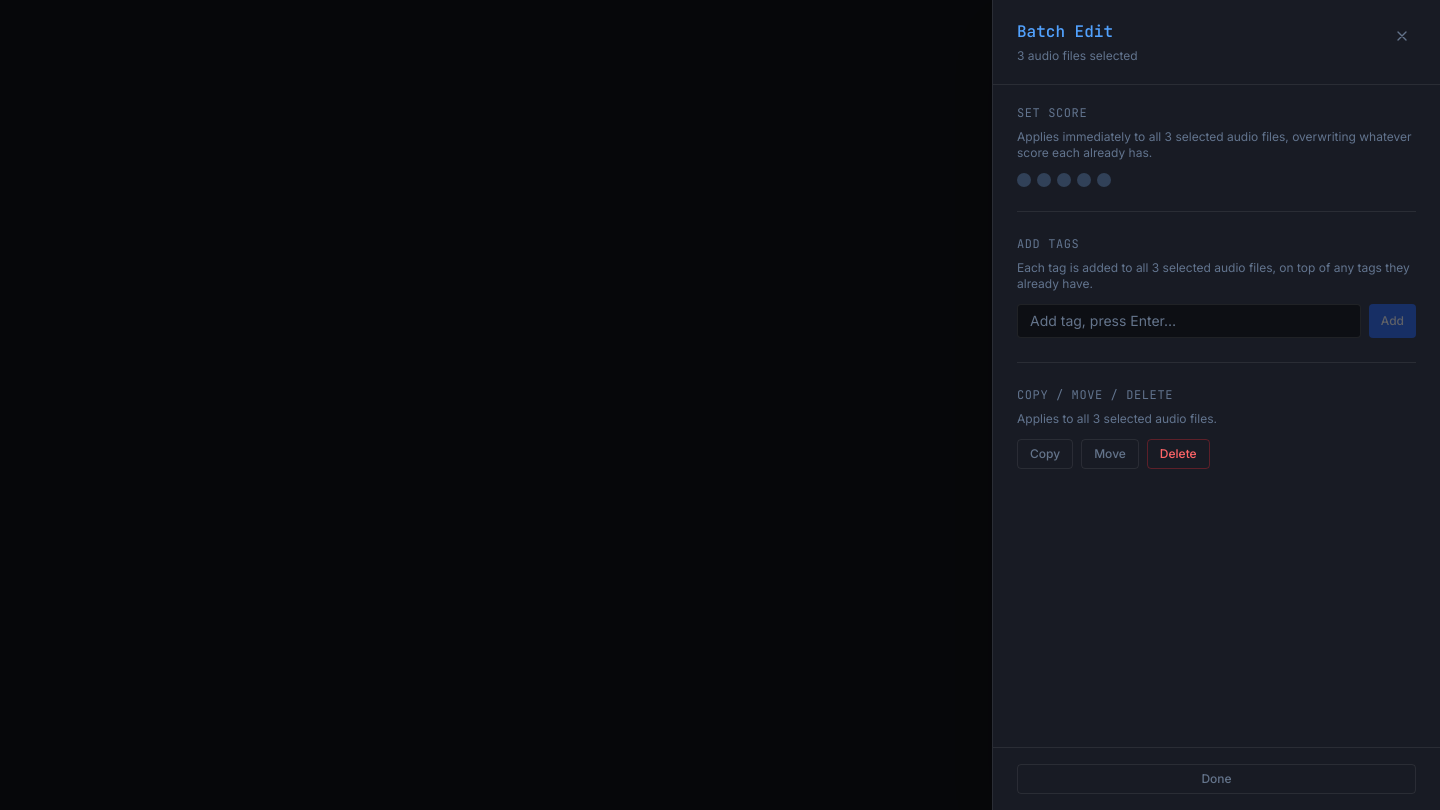
Test: BatchEditPanel - handleAddTag › the Add button also commits the current input value and is disabled when the input is empty
Expected: the button "Add" is disabled, [1369,304,1416,338]
Type "ambient" into the dropdown at (1189,321), box [1017,304,1361,338]
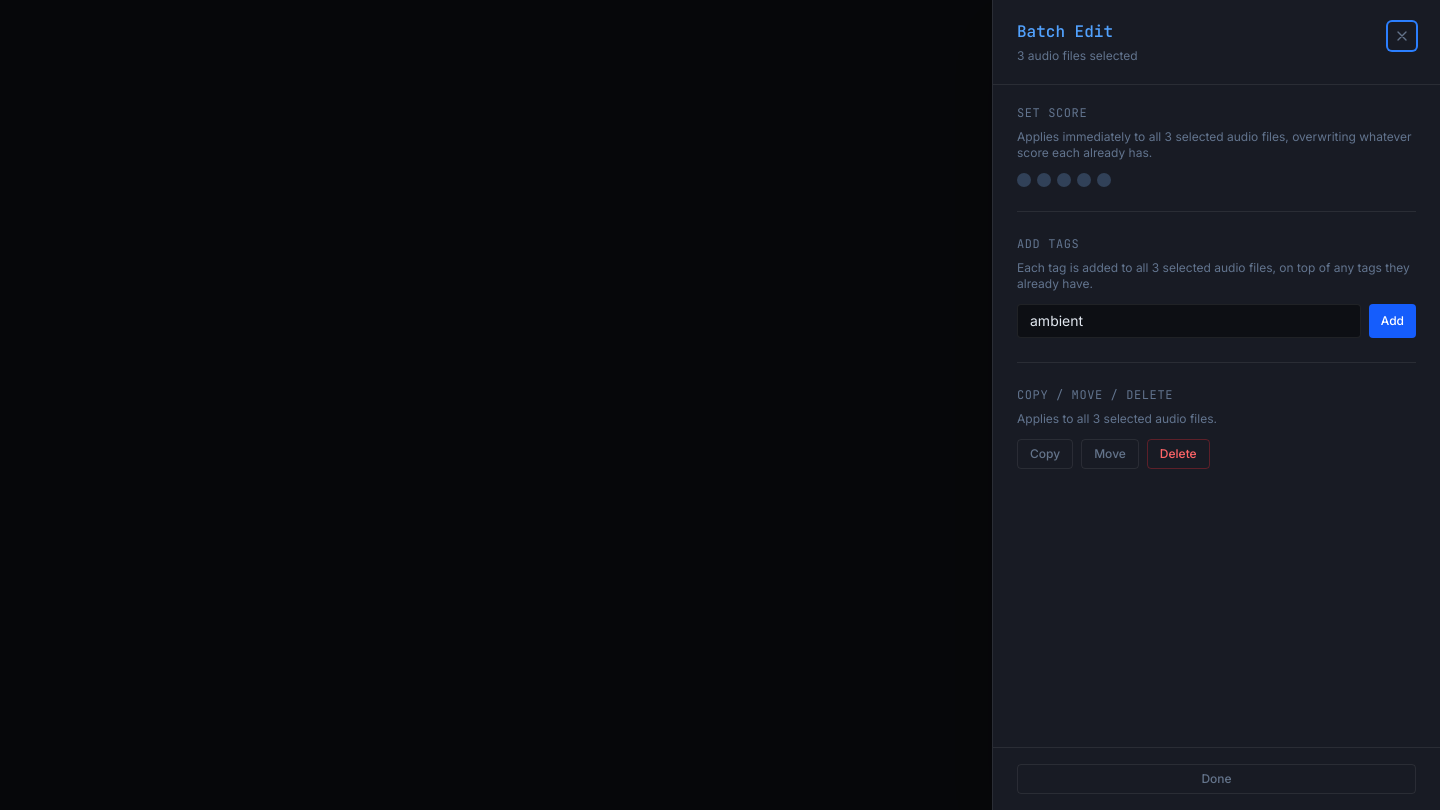
Expected: the button "Add" is enabled
Click the button "Add" at (1392,321), box [1369,304,1416,338]
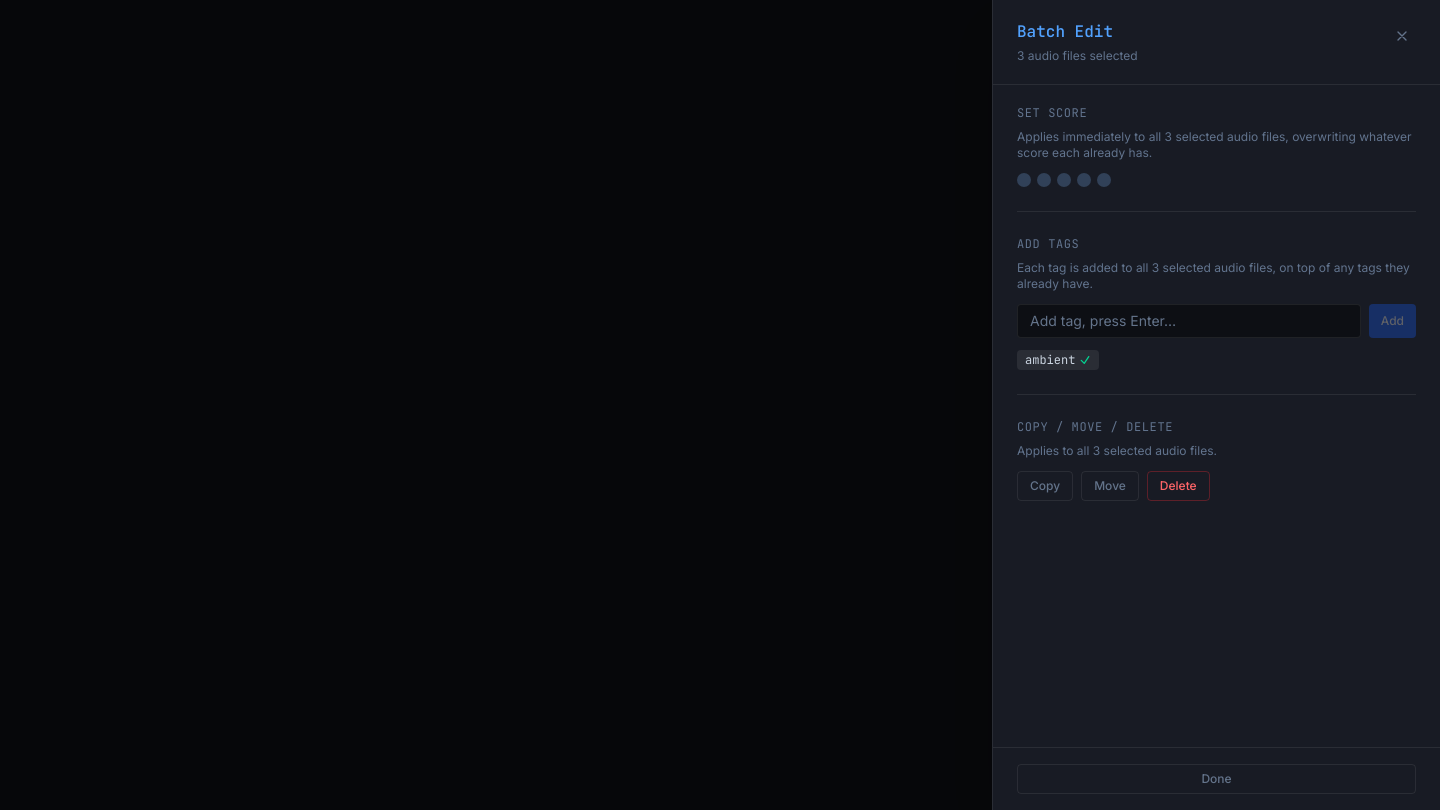
Expected: the text "ambient" is shown, [1017,350,1099,370]
